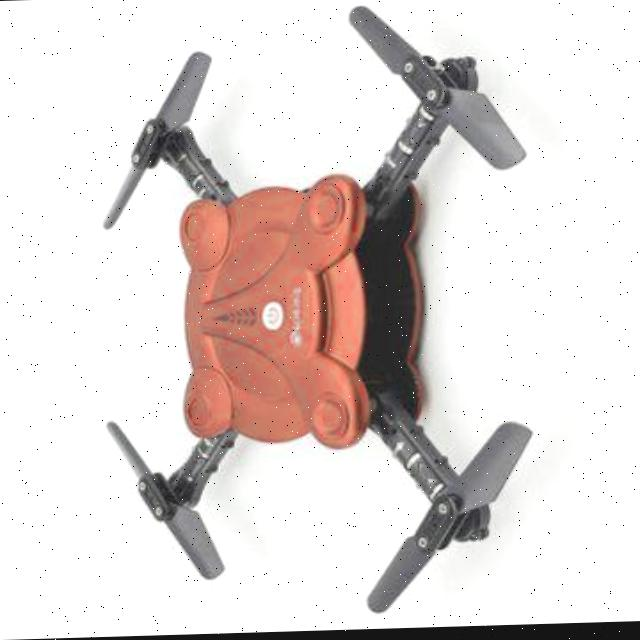drone: (66, 0, 582, 638)
